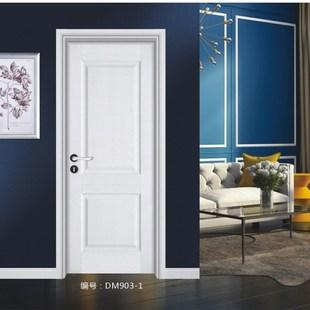door: (65, 40, 156, 275)
